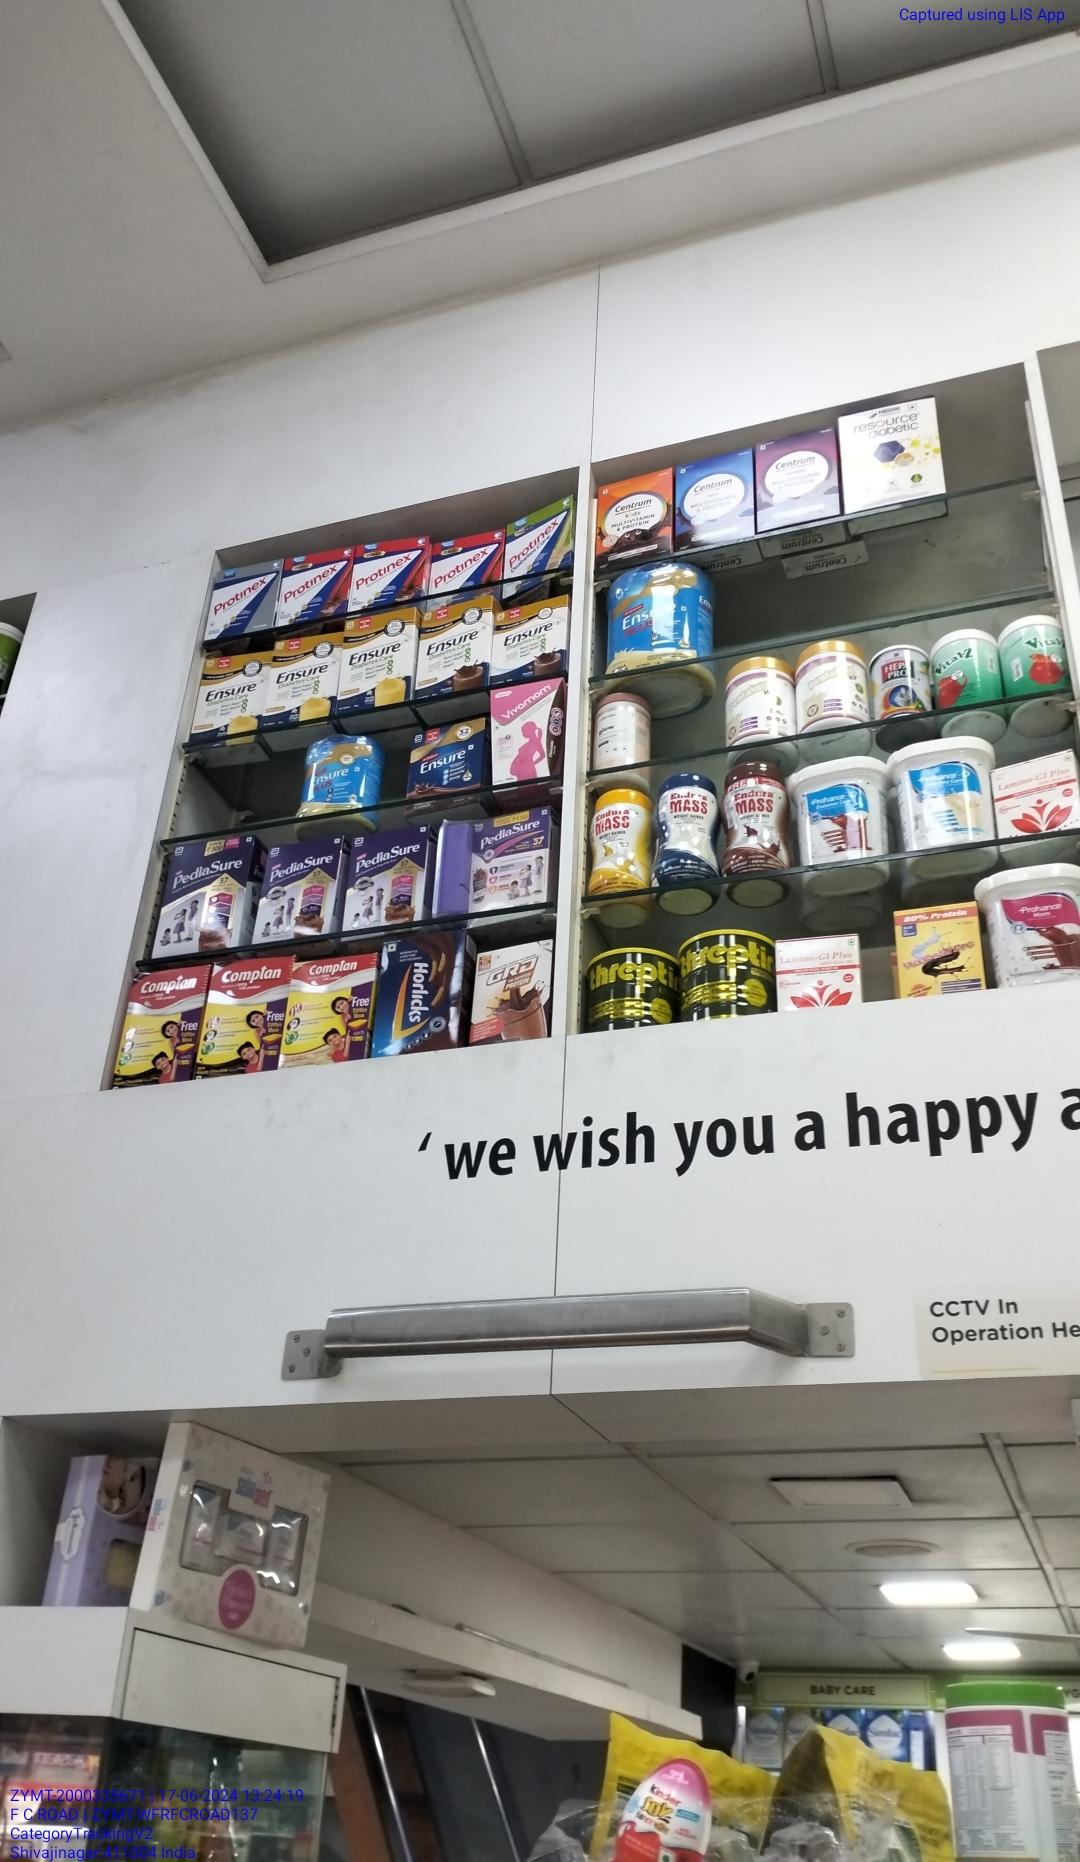PEDIASURE_CHOCOLATE_500_G_PACK: (153, 838, 251, 951), (346, 828, 429, 930), (256, 840, 339, 939)
